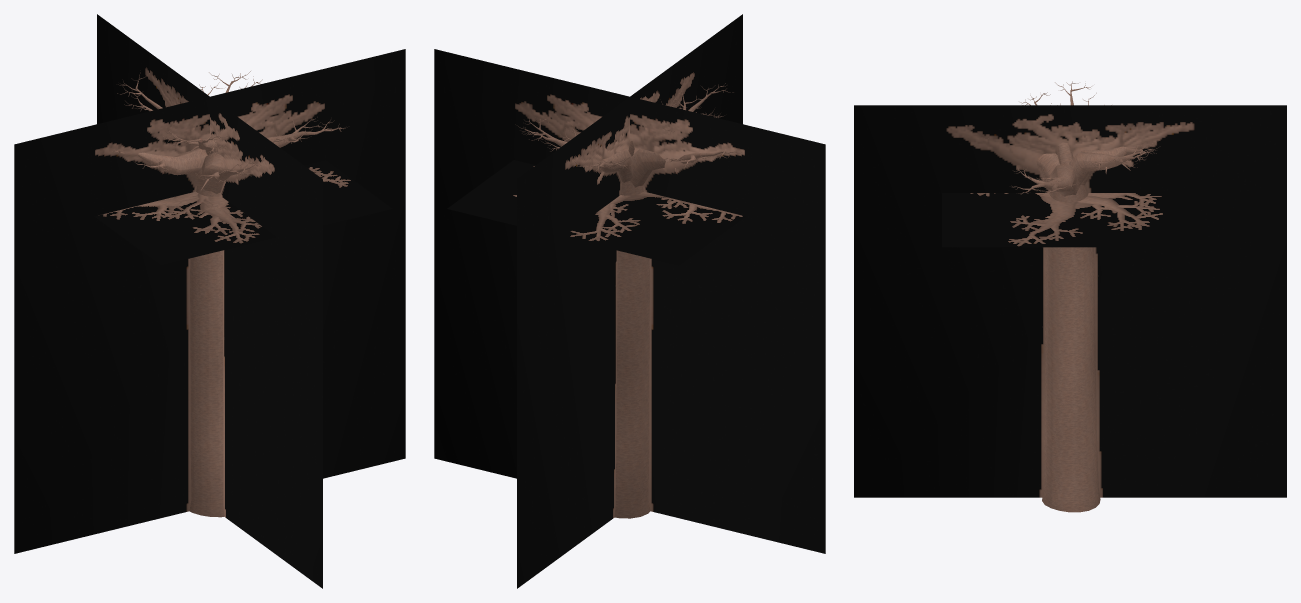
The model's file is Baoba_06_Grandidieri_Candelabro_Seco.glb.
The picture shows the model from 3 angles, left to right: view 1: azimuth 30°, elevation 25°; view 2: azimuth 150°, elevation 25°; view 3: azimuth 270°, elevation 25°; orthographic projection. The views are drawn at different scales.
Visible parts, largest first — view 1: Baoba_06_Grandidieri_Candelabro_Seco impostor, Tronco, Bracos principais, Ponteiras, Ramos finos, Ramos secundarios; view 2: Baoba_06_Grandidieri_Candelabro_Seco impostor, Tronco, Bracos principais, Ponteiras; view 3: Baoba_06_Grandidieri_Candelabro_Seco impostor, Tronco, Bracos principais.
Part boxes in pixels (x1,y1,x2,y2): Baoba_06_Grandidieri_Candelabro_Seco impostor: [14, 14, 405, 588]; Tronco: [189, 186, 224, 517]; Bracos principais: [138, 107, 301, 193]; Ponteiras: [105, 71, 347, 182]; Ramos finos: [115, 77, 339, 180]; Ramos secundarios: [115, 82, 327, 178]; Baoba_06_Grandidieri_Candelabro_Seco impostor: [434, 14, 825, 588]; Tronco: [614, 181, 650, 518]; Bracos principais: [555, 108, 700, 187]; Ponteiras: [515, 83, 739, 172]; Baoba_06_Grandidieri_Candelabro_Seco impostor: [854, 105, 1286, 497]; Tronco: [1042, 184, 1100, 512]; Bracos principais: [1036, 142, 1128, 196].
Size of what is drawn, in the model's own units: 29.74 by 29.74 by 29.74.
2 materials, 2 textured.
